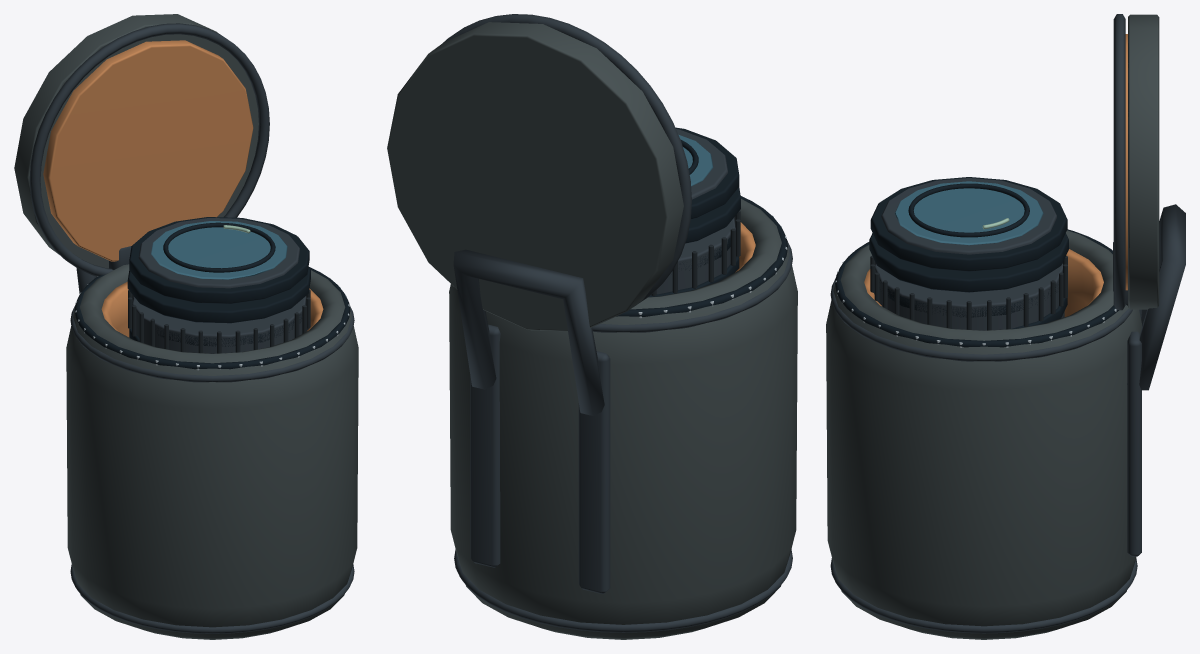
Rendered from P058_lens_case_rebuilt.glb.
3 renders of one model, left to right at view 1: azimuth 30°, elevation 25°; view 2: azimuth 150°, elevation 25°; view 3: azimuth 270°, elevation 25°, orthographic. The views are drawn at different scales.
Visible parts, largest first — view 1: Woven_charcoal_case_fabric, Lens_case_warm_padded_lining, Graphite_molded_housing, Recess_and_speaker_cloth, LCD_blue_grey_glass, Molded_rubber_contact_pads; view 2: Woven_charcoal_case_fabric, Graphite_molded_housing, Recess_and_speaker_cloth, Molded_rubber_contact_pads, LCD_blue_grey_glass; view 3: Woven_charcoal_case_fabric, Graphite_molded_housing, Recess_and_speaker_cloth, LCD_blue_grey_glass, Lens_case_warm_padded_lining, Molded_rubber_contact_pads.
Part boxes in pixels (x1,y1,x2,y2): Woven_charcoal_case_fabric: (14,14,358,639); Lens_case_warm_padded_lining: (43,40,323,337); Graphite_molded_housing: (29,23,354,633); Recess_and_speaker_cloth: (74,217,350,369); LCD_blue_grey_glass: (151,221,287,279); Molded_rubber_contact_pads: (128,289,310,353); Woven_charcoal_case_fabric: (387,22,797,639); Graphite_molded_housing: (443,14,792,632); Recess_and_speaker_cloth: (616,127,787,316); Molded_rubber_contact_pads: (651,210,740,296); LCD_blue_grey_glass: (678,134,713,186); Woven_charcoal_case_fabric: (826,14,1159,639); Graphite_molded_housing: (830,14,1185,633); Recess_and_speaker_cloth: (835,177,1119,347); LCD_blue_grey_glass: (894,181,1043,245); Lens_case_warm_padded_lining: (864,34,1127,316); Molded_rubber_contact_pads: (870,255,1067,330).
Size of the model in its own units: 0.212 by 0.4145 by 0.2414.
